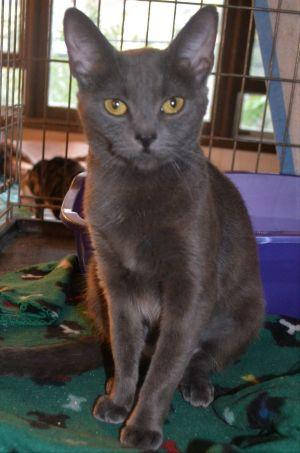rblue: (48, 5, 229, 179)
